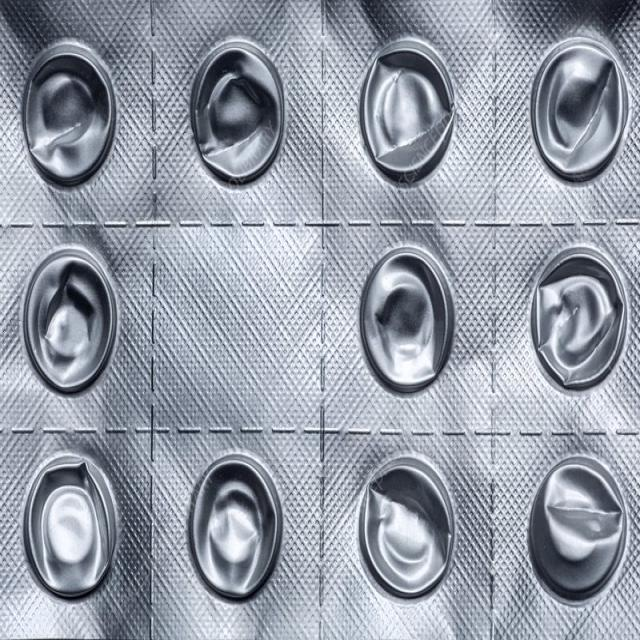Empty: (13, 24, 122, 206), (355, 28, 460, 190), (526, 28, 626, 198), (188, 34, 289, 202), (533, 236, 628, 410), (533, 448, 631, 614), (357, 238, 456, 402), (22, 452, 122, 614), (359, 446, 456, 606), (24, 248, 120, 408), (196, 436, 283, 610)
